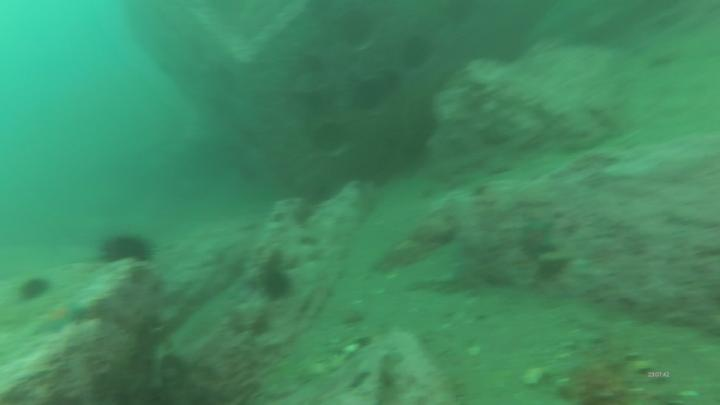echinus: (102, 234, 153, 270), (264, 263, 293, 302), (21, 276, 53, 303)
starfish: (34, 303, 91, 337)
